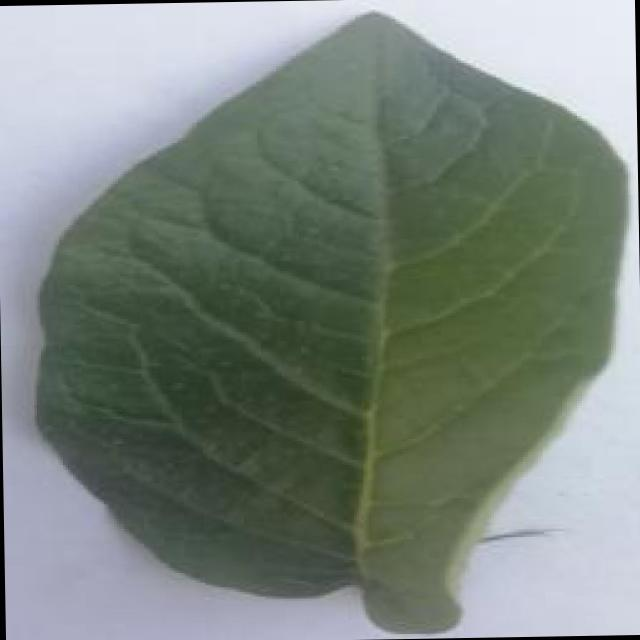Potato_Healthy: (27, 6, 626, 640)
